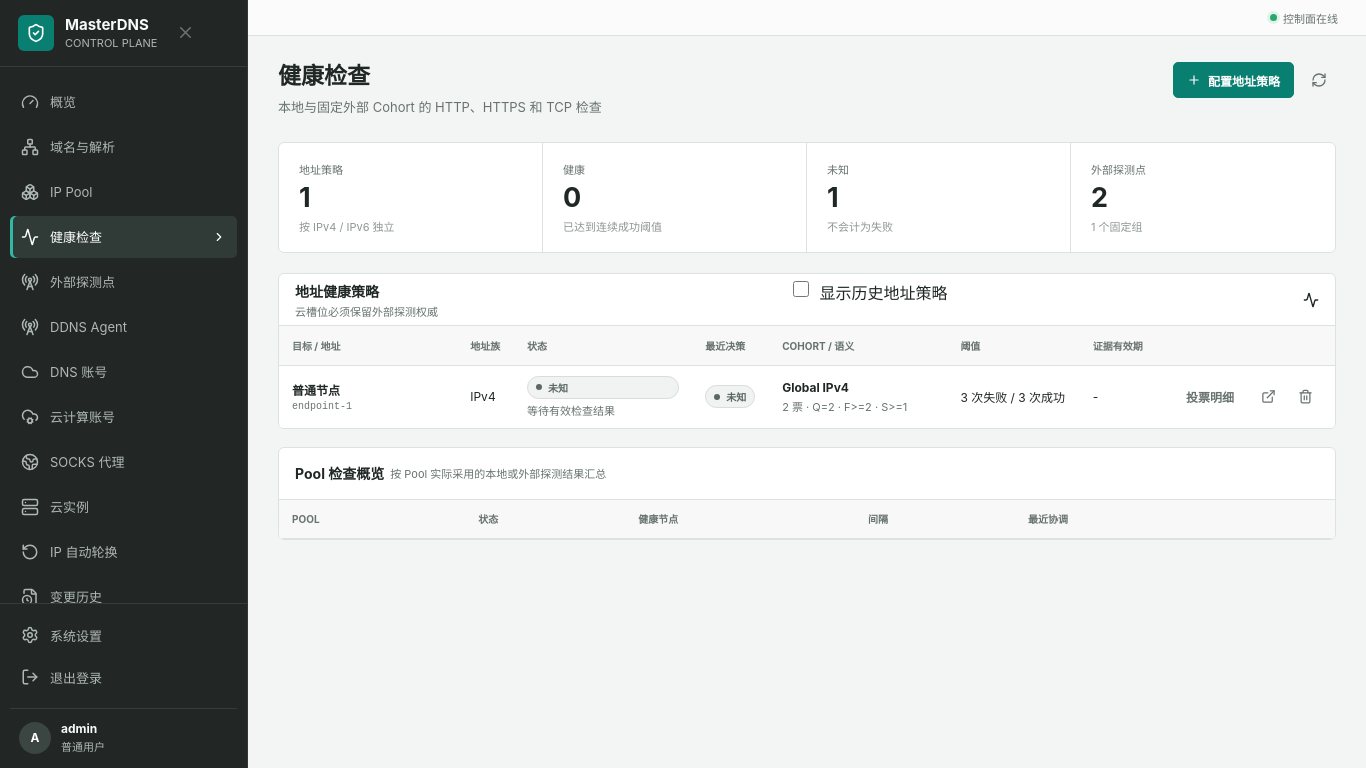
Test: offers deletion for ordinary users and cancels without a request
The width and height of the screenshot is (1366, 768).
Click the button named "删除策略": (1305, 396) [1288,380,1322,414]
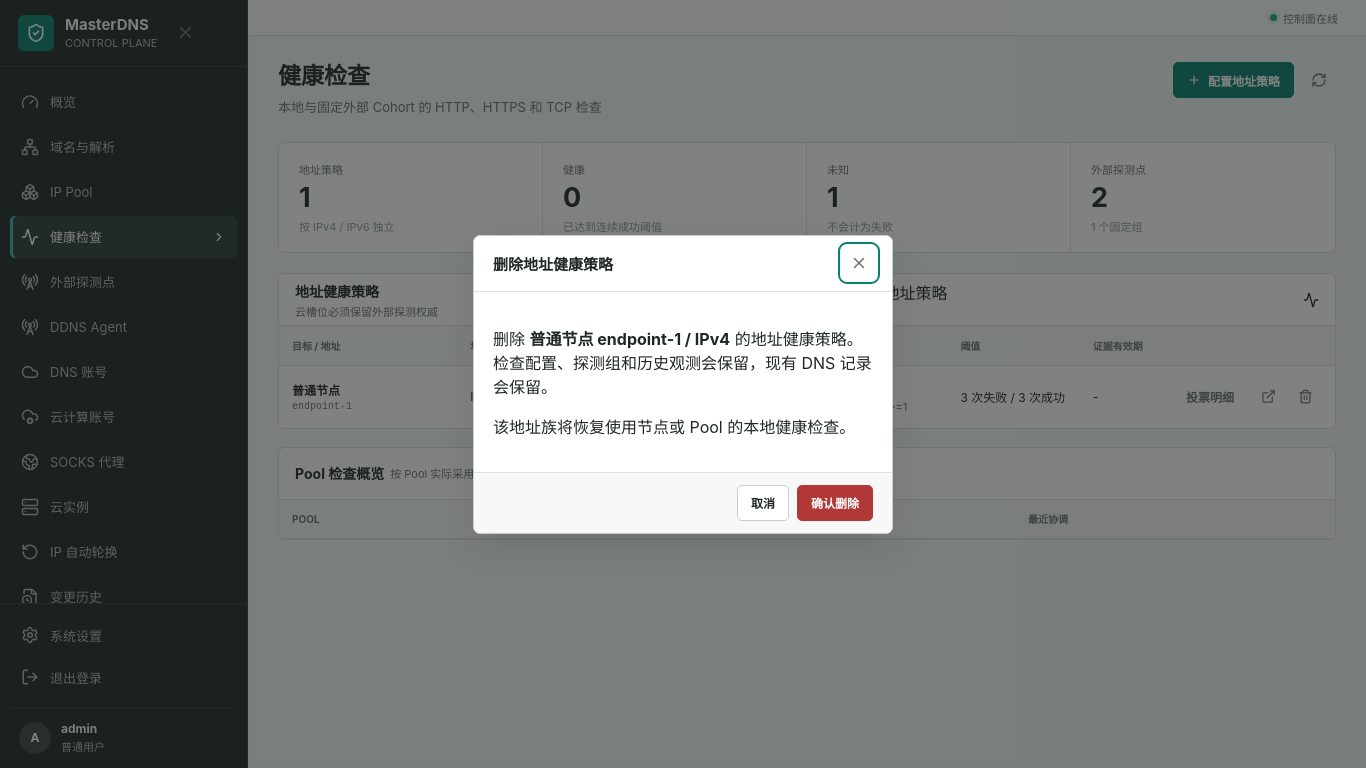
Result: the dialog shows "本地健康检查" at [493,416,855,436]
Result: the dialog shows "IPv4" at [473,234,893,534]
Click the button "取消": (763, 502) [737,484,789,520]
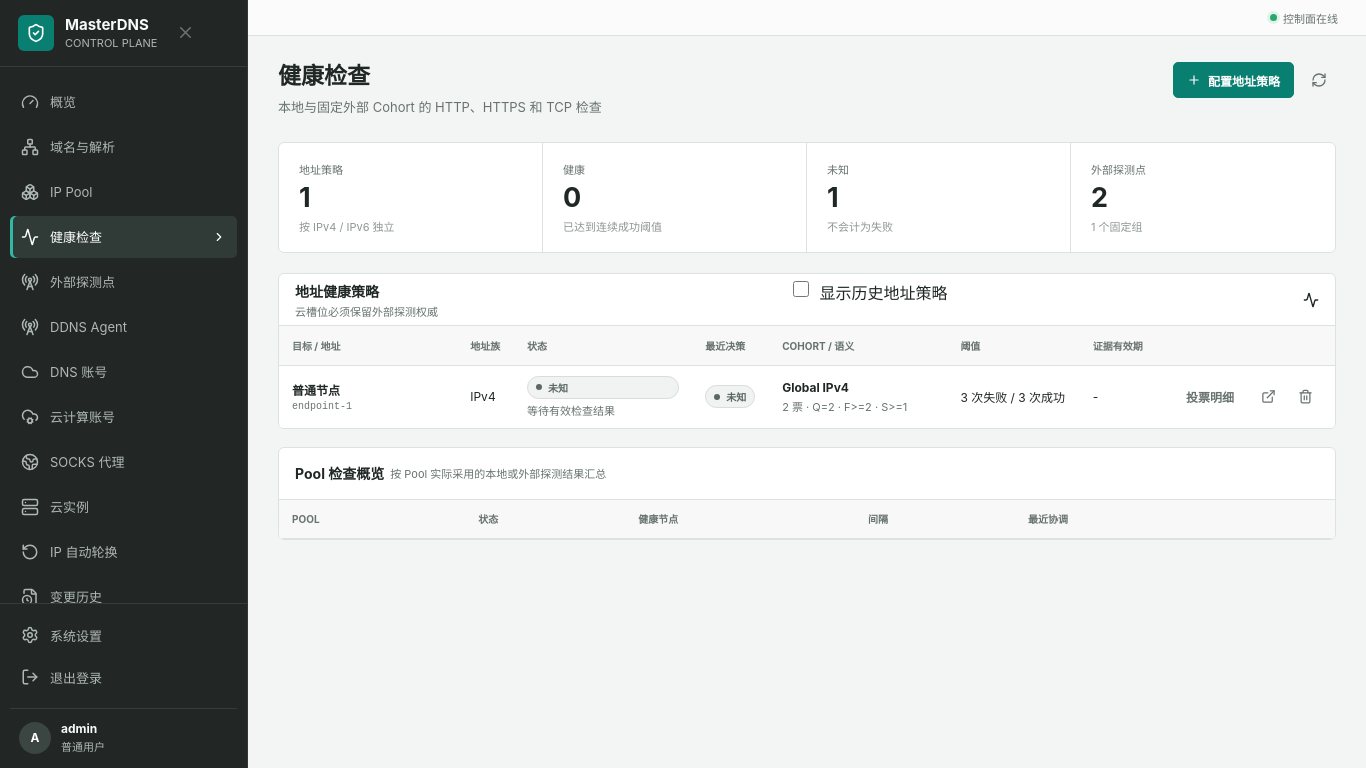
Expected: the button named "删除策略" is shown, [1288,380,1322,414]
Result: the dialog is gone
